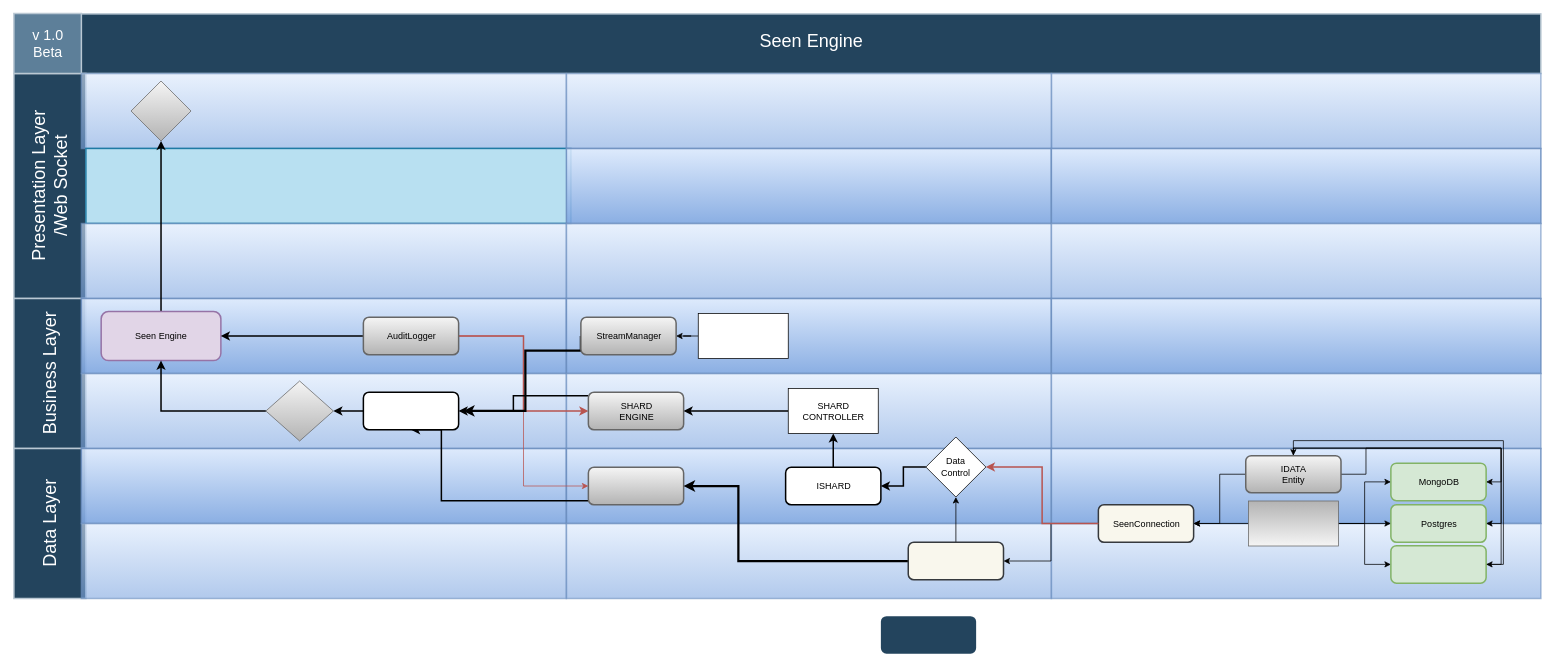
The diagram is 1554 pixels wide and 667 high, and some of its shapes have lost their labels. Here are the shapes that lost their labels. From the top down, the centre of each, then its label:
point 160,110: WebSocket
point 743,335: StreamHandle
point 299,410: StreamEngine
point 410,410: MicroServiceHandler
point 635,485: DATABASE
point 1293,523: IDATABASE
point 955,560: DBManager
point 1438,564: MySQL DB
